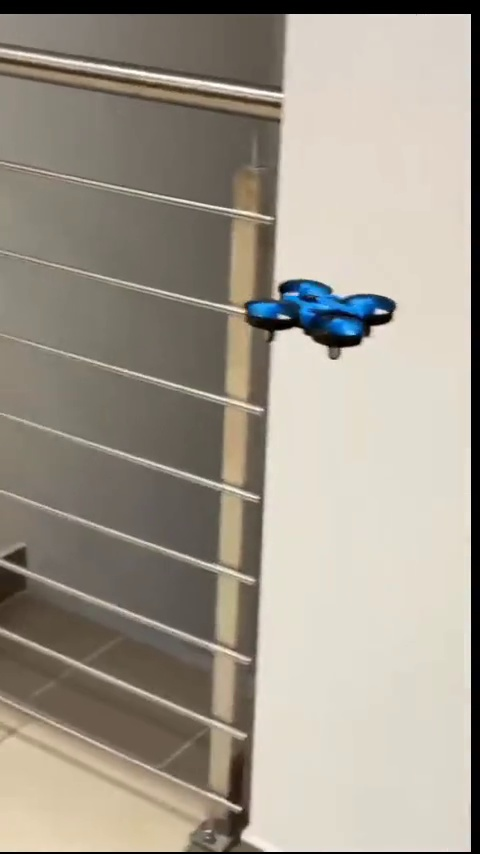drone: (245, 282, 397, 356)
